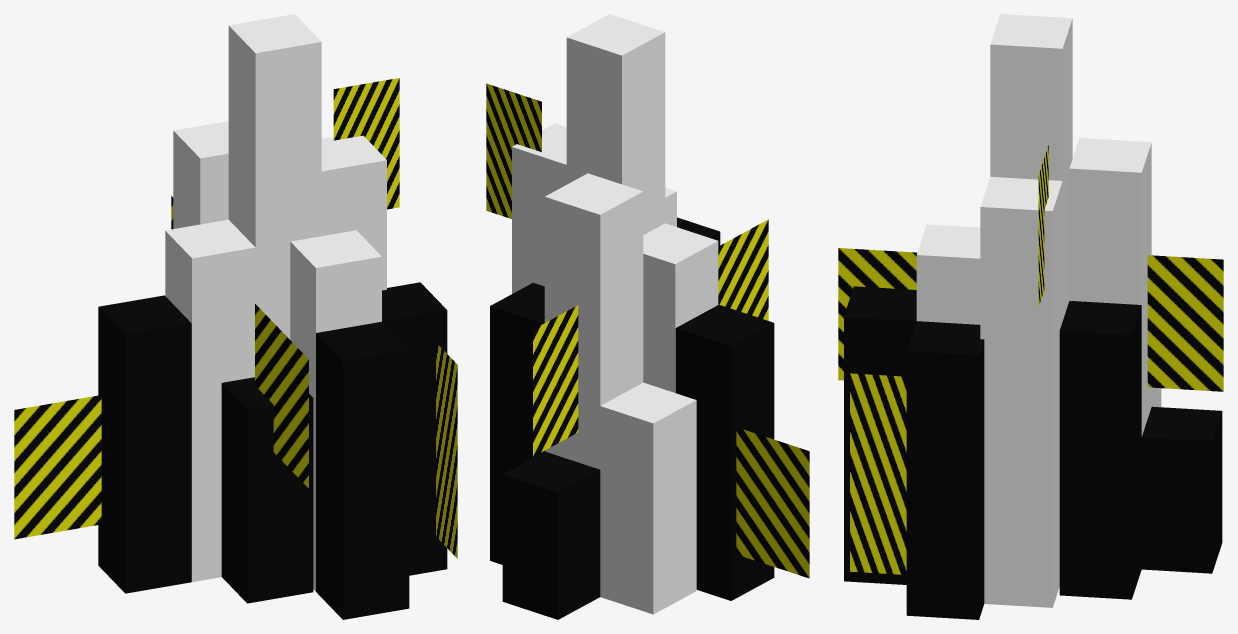
3 renders of one model, left to right at view 1: azimuth 30°, elevation 25°; view 2: azimuth 150°, elevation 25°; view 3: azimuth 270°, elevation 25°, orthographic. The views are drawn at different scales.
Visible parts, largest first — view 1: Cube.009; view 2: Cube.009; view 3: Cube.009.
Boxes of the visible parts, x1,y1,x2,y2 form: Cube.009: (14, 14, 457, 619); Cube.009: (486, 14, 809, 619); Cube.009: (838, 14, 1223, 619).
Bounding box in the file's own units: 2.89 × 4 × 2.64.
Materials: 3 (1 with a texture image).
